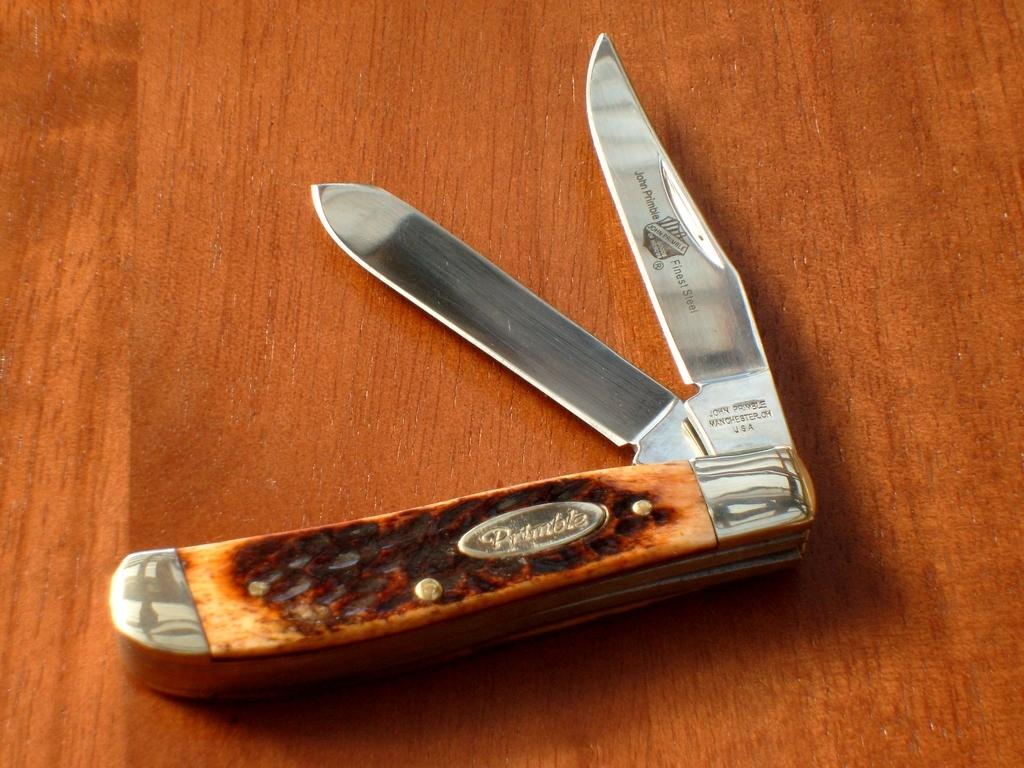Knife: (103, 29, 820, 711)
